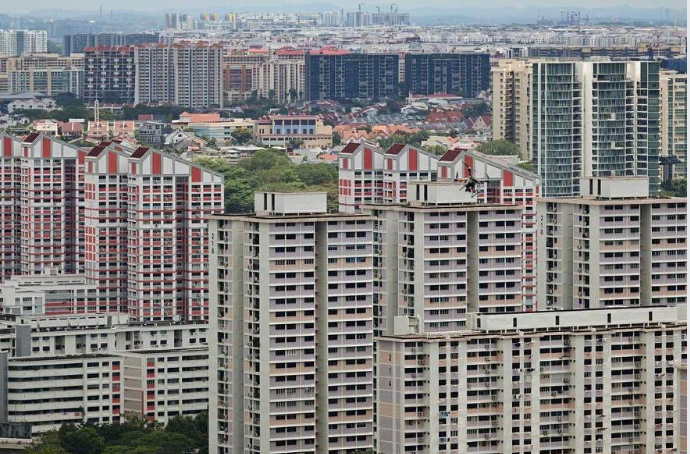drone_other: (454, 161, 491, 198)
